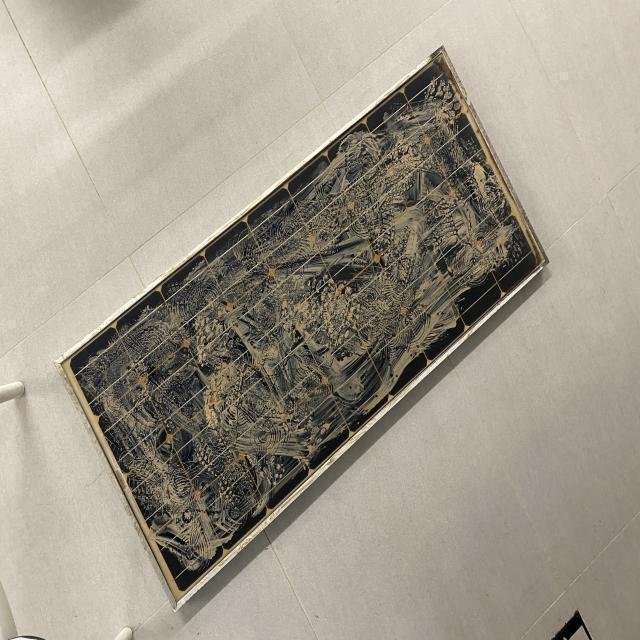Anomaly Solar Panel: (63, 56, 545, 603)
Surface Contaminant: (69, 66, 527, 576)
